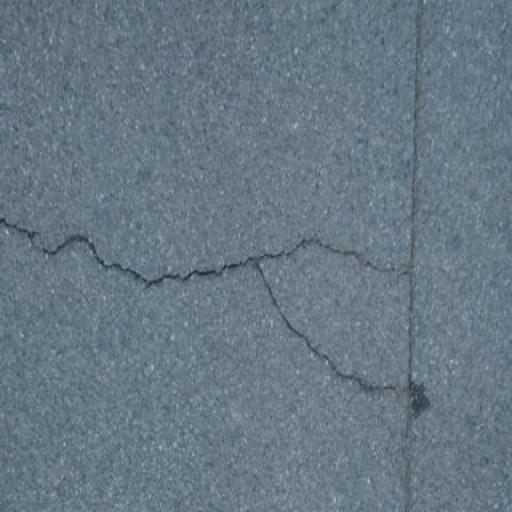spalling: (0, 199, 403, 293), (382, 6, 432, 502), (242, 271, 397, 414)
